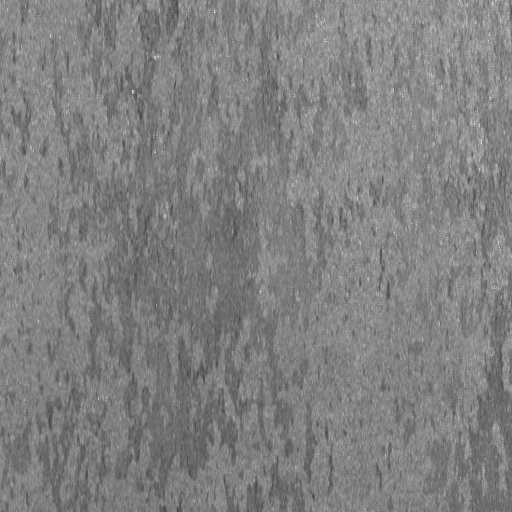zongxiangliewen: (208, 301, 255, 466), (376, 243, 389, 318)
